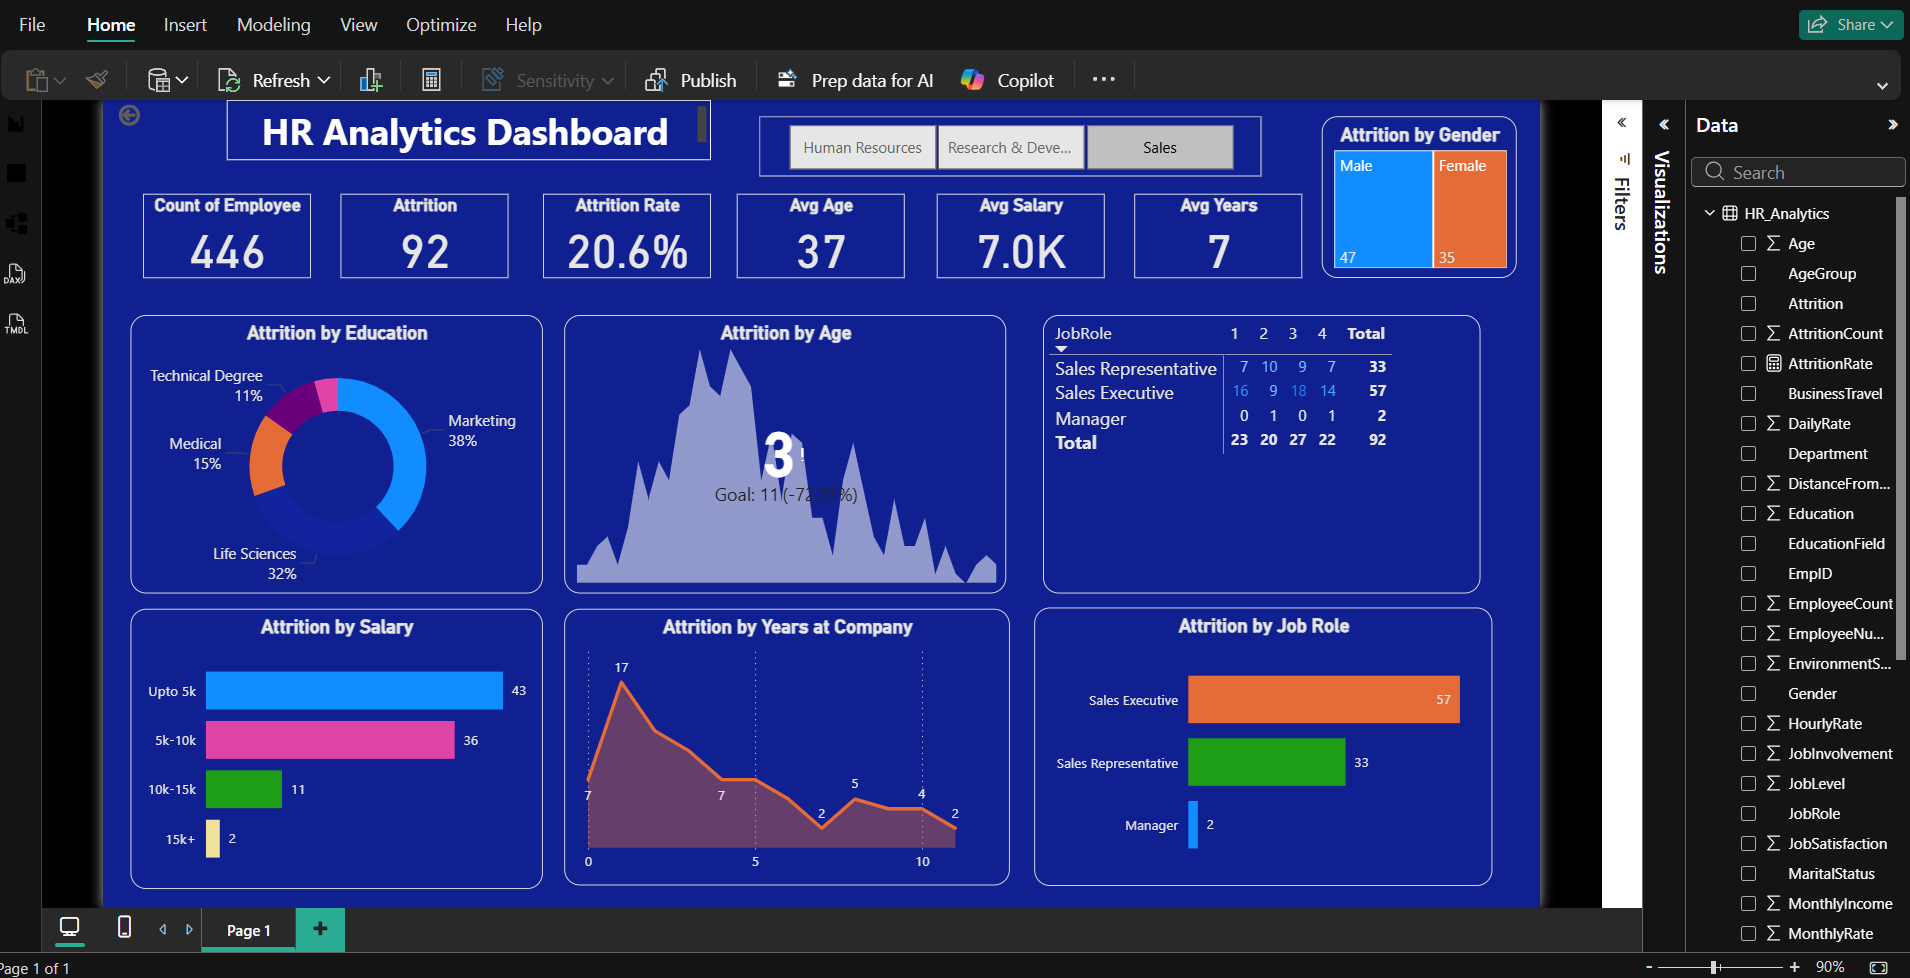

This screenshot's page, from the dashboard's own definition file:
{"tool":"powerbi","page":{"name":"Page 1","canvas":[1280,720],"ordinal":0},"visuals":[{"type":"card","title":"Count of Employee","fields":{"Values":["CountNonNull(HR_Analytics.EmpID)"]},"box":[35.3,84,149.5,75.6],"z":0},{"type":"card","title":"Attrition","fields":{"Values":["Sum(HR_Analytics.AttritionCount)"]},"box":[211.7,84,149.5,75.6],"z":1000},{"type":"card","title":"Attrition Rate","fields":{"Values":["HR_Analytics.AttritionRate"]},"box":[391.4,84,149.5,75.6],"z":2000},{"type":"card","title":"Avg Age","fields":{"Values":["Avg(HR_Analytics.Age)"]},"box":[564.4,84,149.5,75.6],"z":3000},{"type":"actionButton","box":[10.1,0,100.8,26.9],"z":4000},{"type":"card","title":"Avg Salary","fields":{"Values":["Avg(HR_Analytics.MonthlyIncome)"]},"box":[742.5,84,149.5,75.6],"z":5000},{"type":"card","title":"Avg Years","fields":{"Values":["Avg(HR_Analytics.YearsAtCompany)"]},"box":[918.8,84,149.5,75.6],"z":6000},{"type":"donutChart","title":"Attrition by Education","fields":{"Y":["Sum(HR_Analytics.AttritionCount)"],"Category":["HR_Analytics.EducationField","HR_Analytics.YearsAtCompany"]},"box":[24.1,191.3,367.1,248],"z":7000},{"type":"kpi","title":"Attrition by Age","fields":{"Goal":["Sum(HR_Analytics.Education)"],"Indicator":["CountNonNull(HR_Analytics.Department)"],"TrendLine":["HR_Analytics.Age"]},"box":[411,191.4,393.9,247.9],"z":8000},{"type":"pivotTable","fields":{"Rows":["HR_Analytics.JobRole"],"Columns":["HR_Analytics.JobSatisfaction"],"Values":["Sum(HR_Analytics.AttritionCount)"]},"box":[837.6,191.3,389.8,248],"z":9000},{"type":"barChart","title":"Attrition by Salary","fields":{"Category":["HR_Analytics.SalarySlab"],"Y":["Sum(HR_Analytics.AttritionCount)"]},"box":[24.1,453.5,367.1,249.4],"z":10000},{"type":"barChart","title":"Attrition by Job Role","fields":{"Category":["HR_Analytics.JobRole"],"Y":["Sum(HR_Analytics.AttritionCount)"]},"box":[829.1,452.1,408.2,248],"z":11000},{"type":"areaChart","title":"Attrition by Years at Company","fields":{"Category":["HR_Analytics.YearsAtCompany"],"Y":["Sum(HR_Analytics.AttritionCount)"]},"box":[411,453.5,396.9,246.6],"z":12000},{"type":"treemap","title":"Attrition by Gender","fields":{"Group":["HR_Analytics.Gender"],"Values":["Sum(HR_Analytics.AttritionCount)"]},"box":[1085,14.1,174,144.3],"z":13000},{"type":"slicer","fields":{"Values":["HR_Analytics.Department"]},"box":[584.2,14.1,447,53.8],"z":14000},{"type":"textbox","box":[110.3,0,431.4,53.8],"z":15000}]}

Visuals, with their boxes on the page's 1280x720 design canvas (x1, y1, x2, y2). These are canvas units, not pixel positions in the 1910x978 screenshot, which may show the page scaled, cropped or inside an application window:
"Count of Employee" card: 35,84,185,160
"Attrition" card: 212,84,361,160
"Attrition Rate" card: 391,84,541,160
"Avg Age" card: 564,84,714,160
actionButton: 10,0,111,27
"Avg Salary" card: 742,84,892,160
"Avg Years" card: 919,84,1068,160
"Attrition by Education" donutChart: 24,191,391,439
"Attrition by Age" kpi: 411,191,805,439
pivotTable - HR_Analytics.JobRole x HR_Analytics.JobSatisfaction: 838,191,1227,439
"Attrition by Salary" barChart: 24,454,391,703
"Attrition by Job Role" barChart: 829,452,1237,700
"Attrition by Years at Company" areaChart: 411,454,808,700
"Attrition by Gender" treemap: 1085,14,1259,158
slicer - HR_Analytics.Department: 584,14,1031,68
textbox: 110,0,542,54
